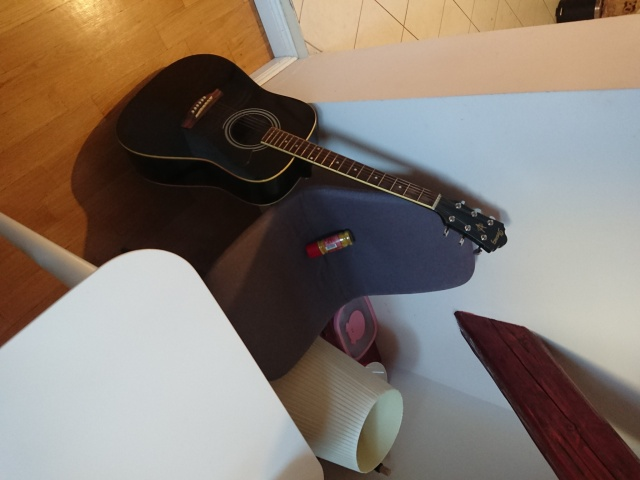Kotanyi Curry Spices Mix 70g: (302, 227, 357, 260)
